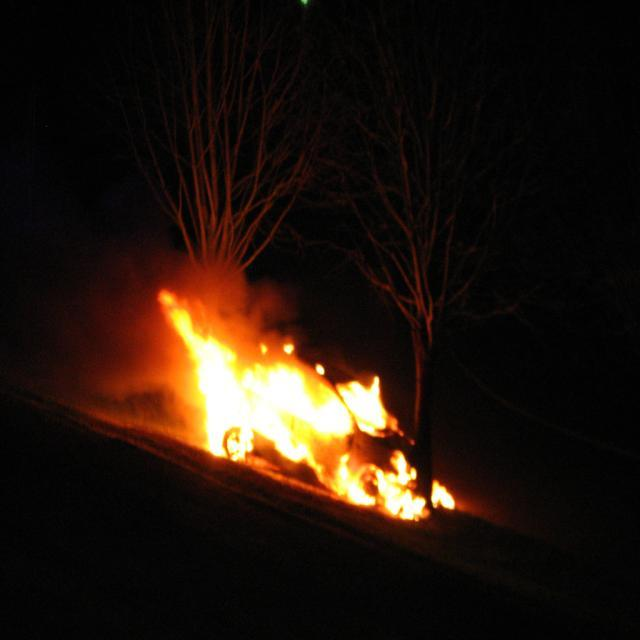Fire: (198, 350, 392, 460)
